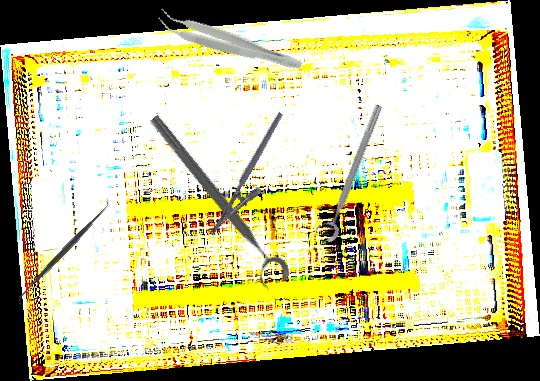Fixation Ring: (136, 110, 294, 294), (312, 100, 387, 244)
Needle Holder: (208, 111, 300, 246)
Spatula Surgical: (9, 197, 118, 308)
Tissue Forceps: (154, 6, 306, 76)
